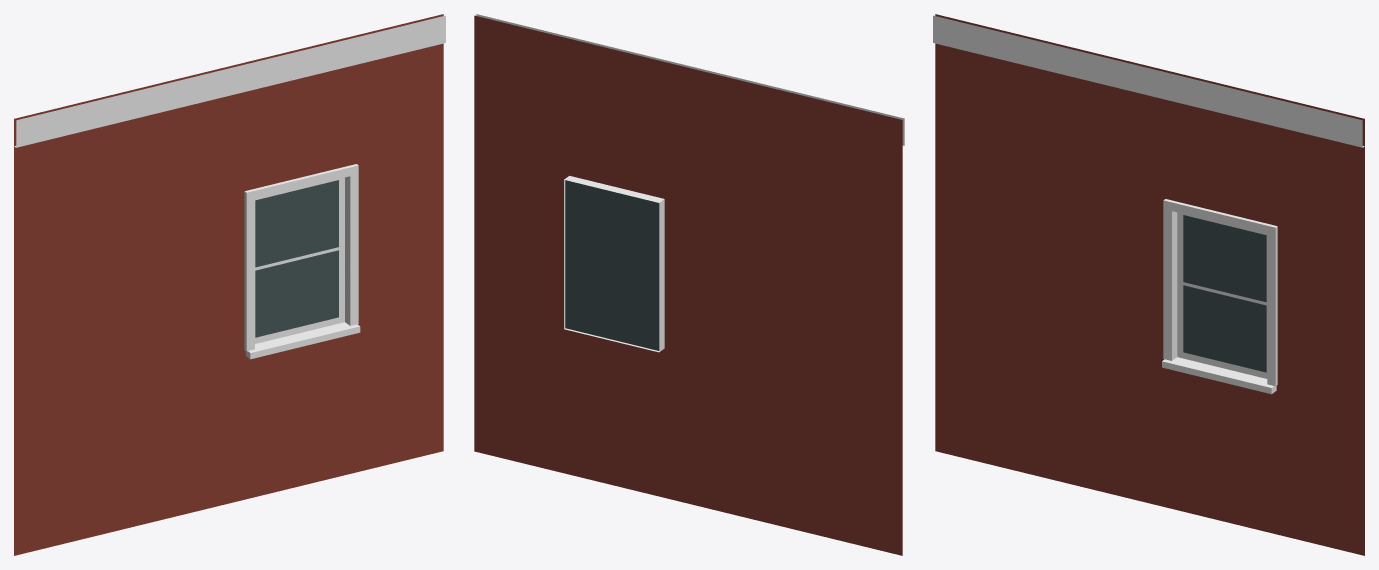
Rendered from top-w2.fbx.
The picture shows the model from 3 angles, left to right: view 1: azimuth 30°, elevation 25°; view 2: azimuth 150°, elevation 25°; view 3: azimuth 330°, elevation 25°; orthographic projection.
Parts seen in each view (by area): view 1: a2000/200/top-w2; view 2: a2000/200/top-w2; view 3: a2000/200/top-w2.
Boxes of the visible parts, box(x1,y1,x2,y2) form: a2000/200/top-w2: box(14, 14, 445, 555); a2000/200/top-w2: box(474, 14, 904, 555); a2000/200/top-w2: box(933, 14, 1364, 555).
Size of the model in its own units: 3.6 by 3.5 by 0.15.
